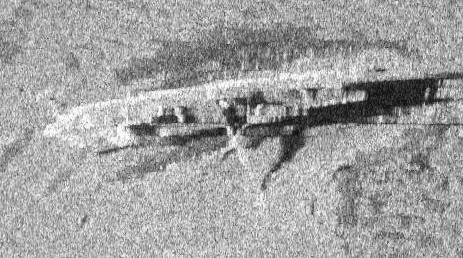ship: (62, 72, 366, 154)
